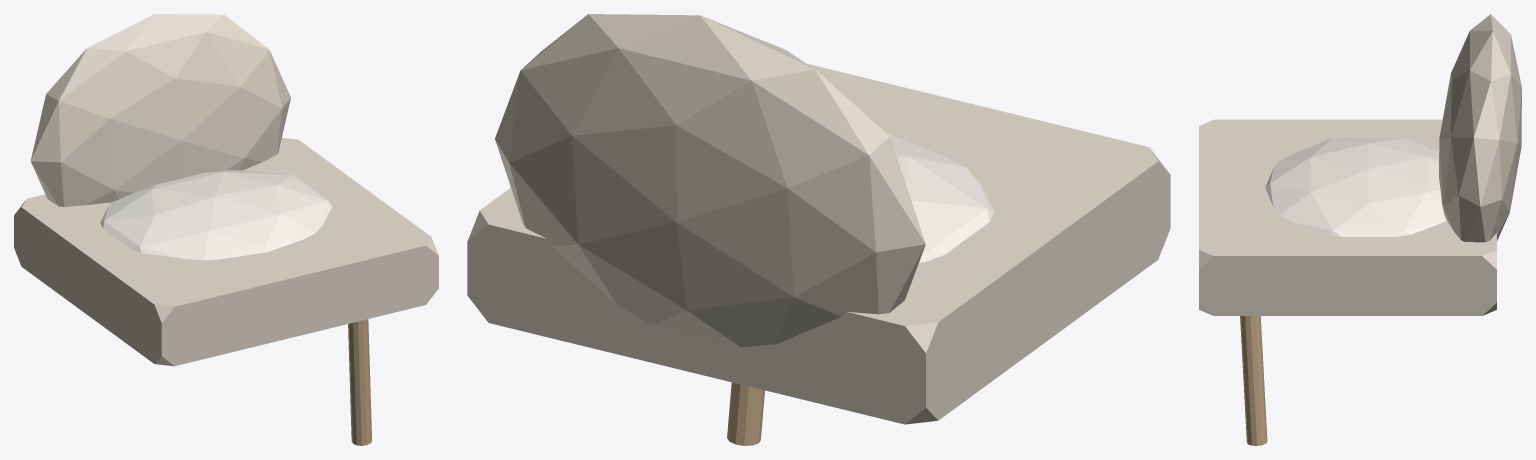
The model's file is chair_low.glb.
3 renders of one model, left to right at view 1: azimuth 30°, elevation 25°; view 2: azimuth 150°, elevation 25°; view 3: azimuth 270°, elevation 25°, orthographic. The views are drawn at different scales.
Visible parts, largest first — view 1: FABRIC_MAIN_seat, FABRIC_MAIN_back, FABRIC_LIGHT_pad, WOOD_DARK_leg; view 2: FABRIC_MAIN_back, FABRIC_MAIN_seat, FABRIC_LIGHT_pad, WOOD_DARK_leg; view 3: FABRIC_MAIN_seat, FABRIC_MAIN_back, FABRIC_LIGHT_pad, WOOD_DARK_leg.
Part boxes in pixels (x1,y1,x2,y2): FABRIC_MAIN_seat: (14, 138, 438, 366); FABRIC_MAIN_back: (30, 14, 290, 206); FABRIC_LIGHT_pad: (100, 170, 332, 260); WOOD_DARK_leg: (348, 319, 371, 445); FABRIC_MAIN_back: (495, 14, 925, 347); FABRIC_MAIN_seat: (467, 63, 1170, 424); FABRIC_LIGHT_pad: (886, 133, 994, 262); WOOD_DARK_leg: (727, 382, 764, 445); FABRIC_MAIN_seat: (1199, 119, 1496, 315); FABRIC_MAIN_back: (1439, 14, 1521, 242); FABRIC_LIGHT_pad: (1265, 138, 1446, 236); WOOD_DARK_leg: (1240, 316, 1267, 445).
Size of the model in its own units: 0.78 by 0.9798 by 0.7804.
